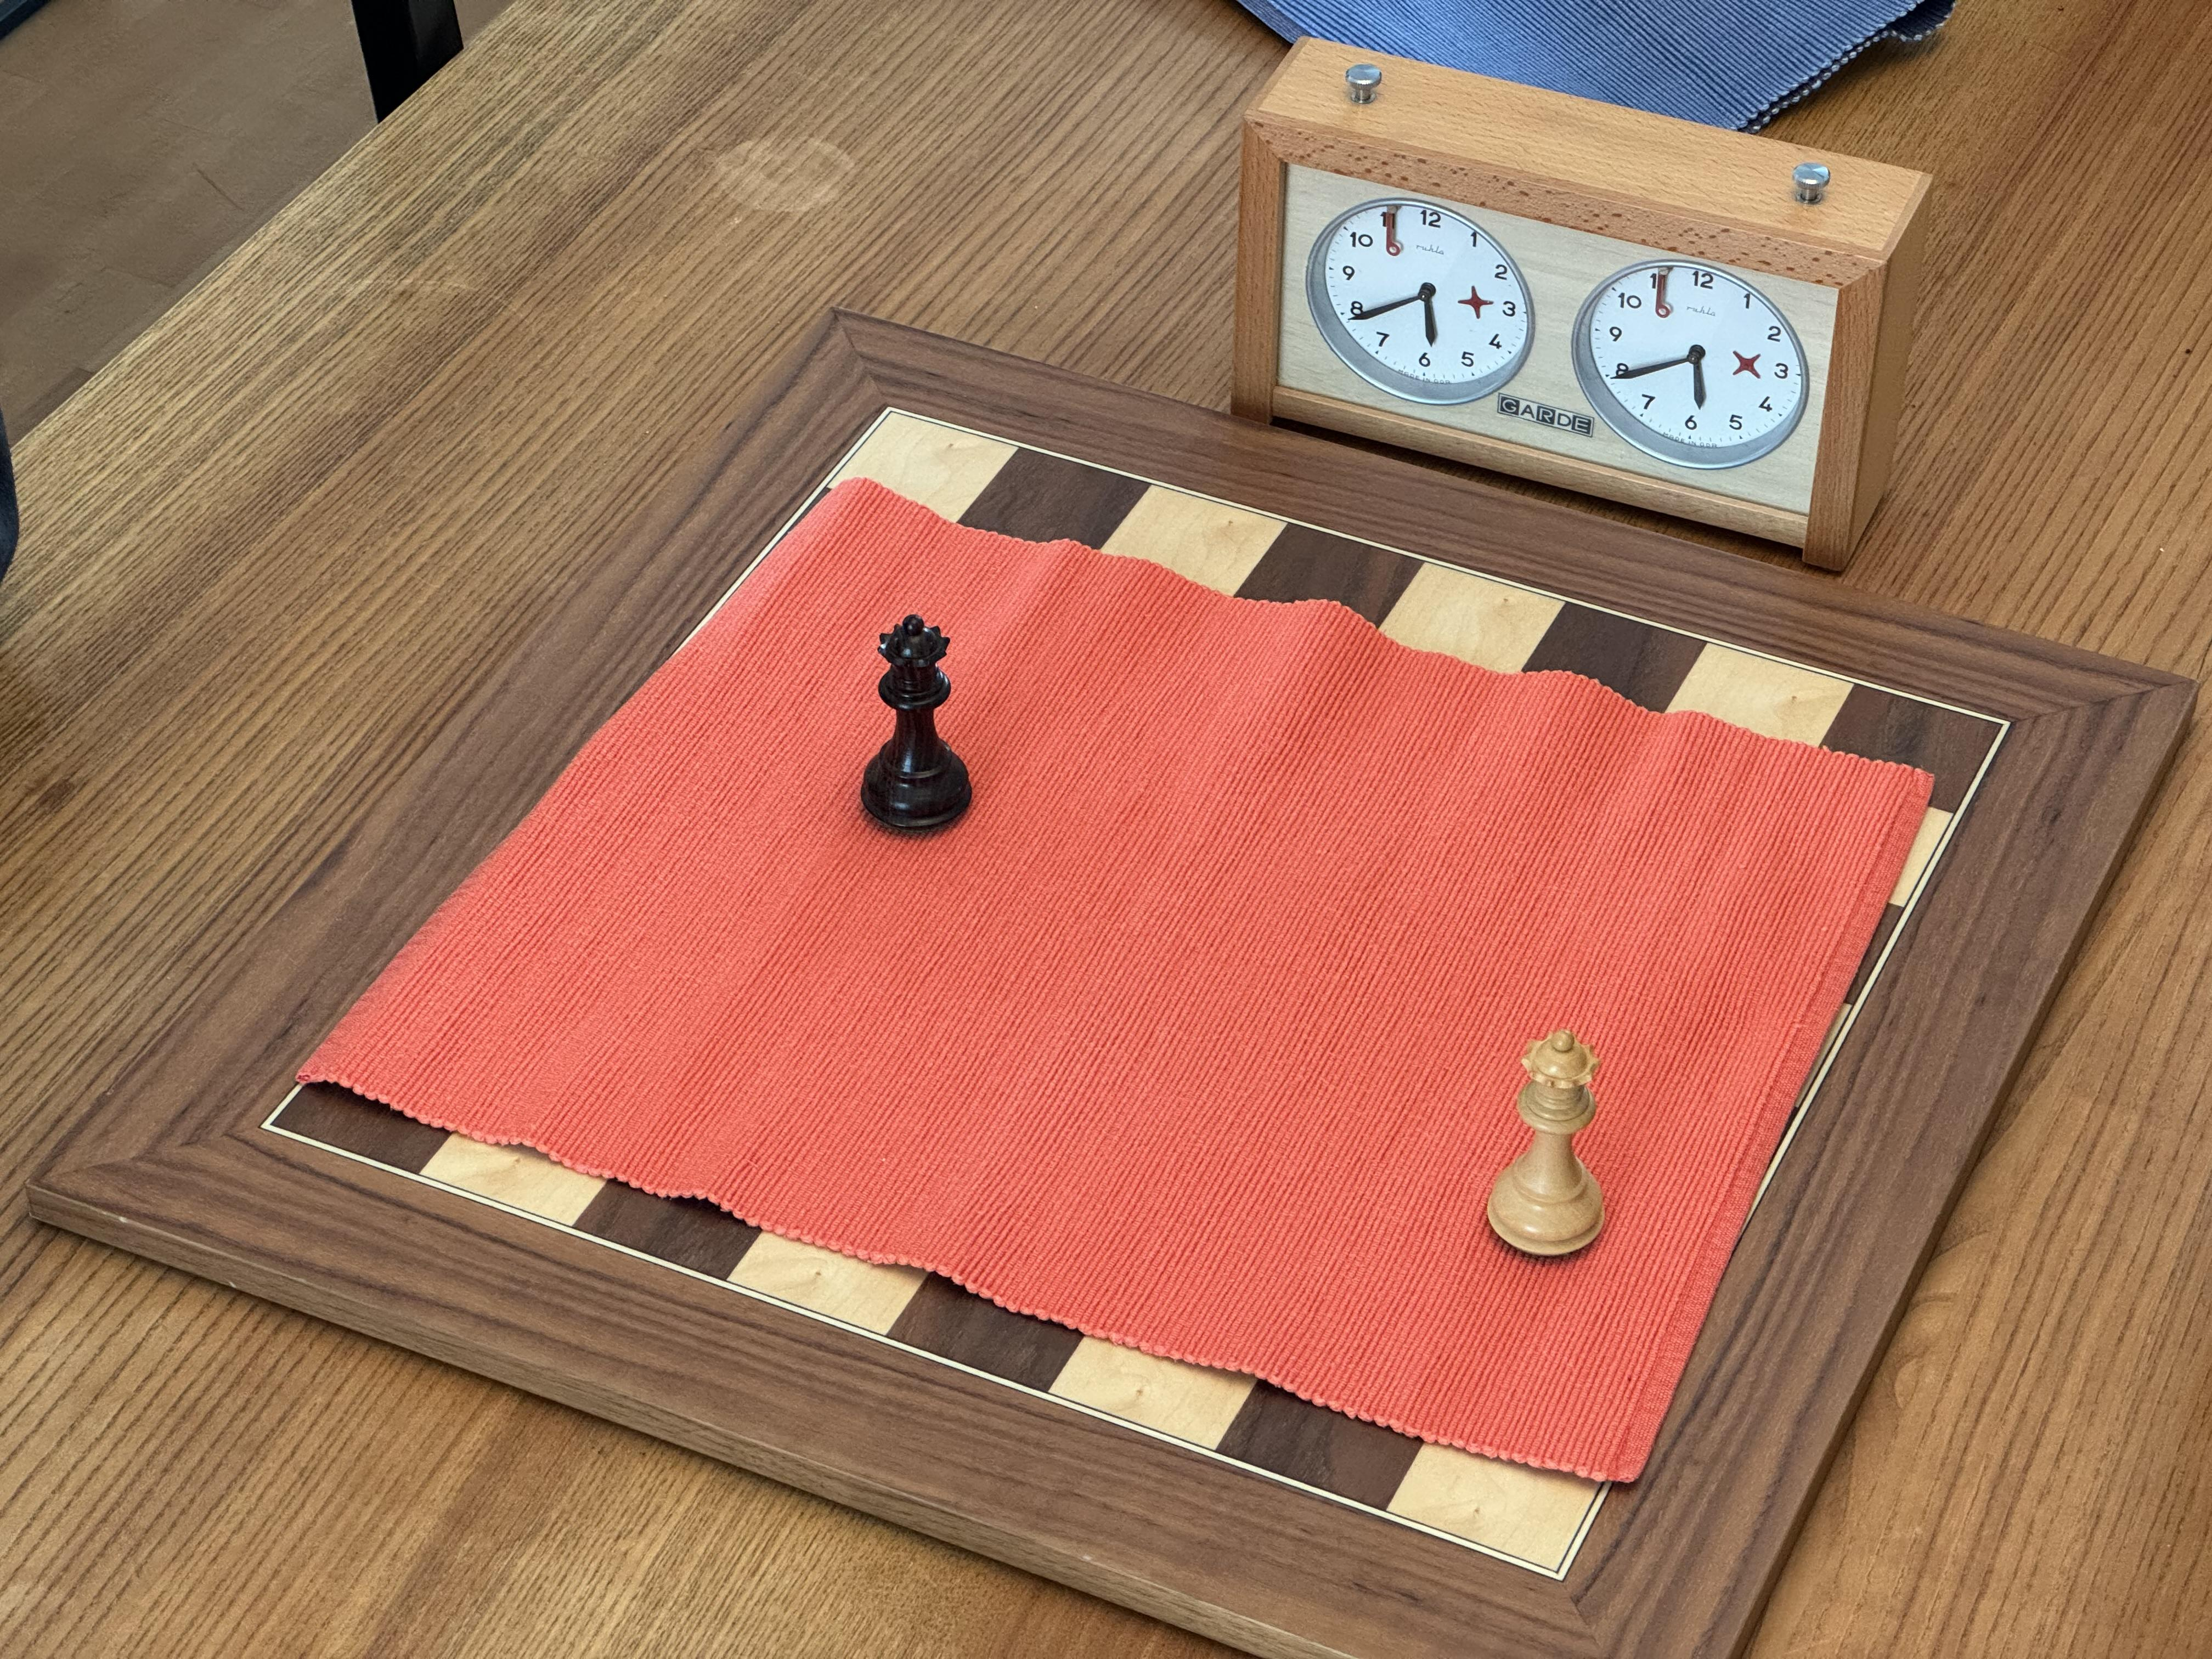Black Queen: (857, 611, 978, 843)
White Queen: (1482, 1028, 1609, 1267)
